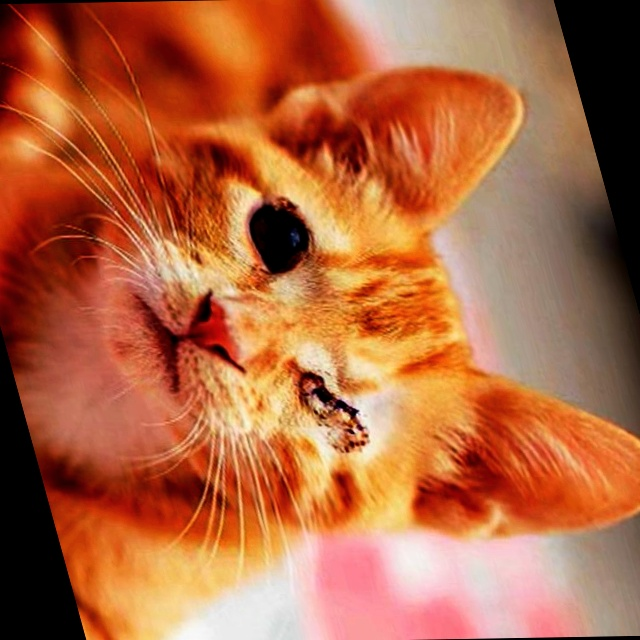eye_infection: (240, 203, 323, 285)
